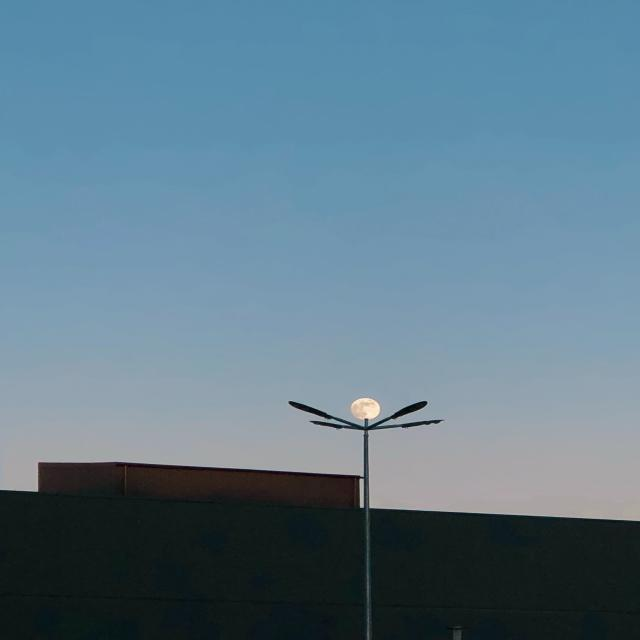Street Light: (288, 400, 442, 640)
